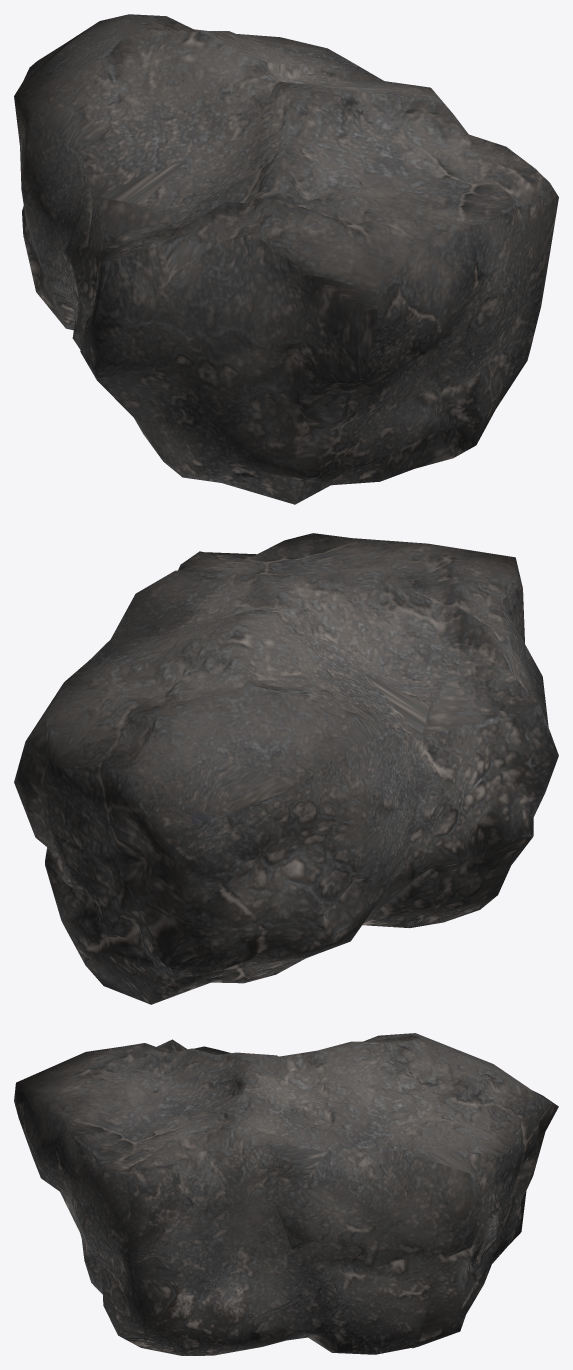
Rendered from Rock_medium_03_GREY.fbx.
3 views of the same model, one above another, from view 1: azimuth 30°, elevation 25°; view 2: azimuth 150°, elevation 25°; view 3: azimuth 270°, elevation 25° (orthographic). The views are drawn at different scales.
Parts seen in each view (by area): view 1: Rock_medium_03_GREY; view 2: Rock_medium_03_GREY; view 3: Rock_medium_03_GREY.
Boxes of the visible parts, x1,y1,x2,y2 form: Rock_medium_03_GREY: (14,14,558,504); Rock_medium_03_GREY: (14,533,558,1004); Rock_medium_03_GREY: (14,1033,558,1355).
Size of the model in its own units: 0.4602 by 0.3637 by 0.6655.
1 material, 1 textured.
